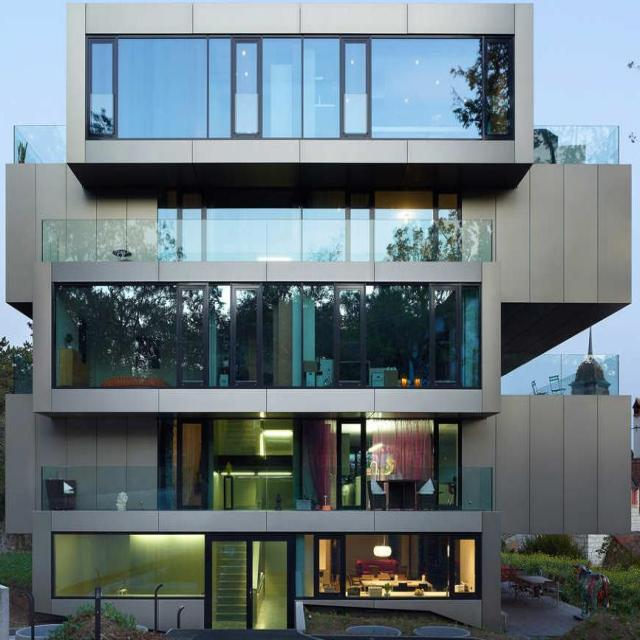door: (203, 530, 294, 630)
railing: (38, 466, 494, 512), (42, 220, 492, 264), (502, 353, 622, 395), (532, 125, 619, 167), (14, 125, 69, 163)
window: (49, 281, 476, 386), (86, 38, 512, 140), (159, 417, 463, 467), (299, 537, 478, 598), (51, 533, 201, 595), (155, 192, 462, 221)
